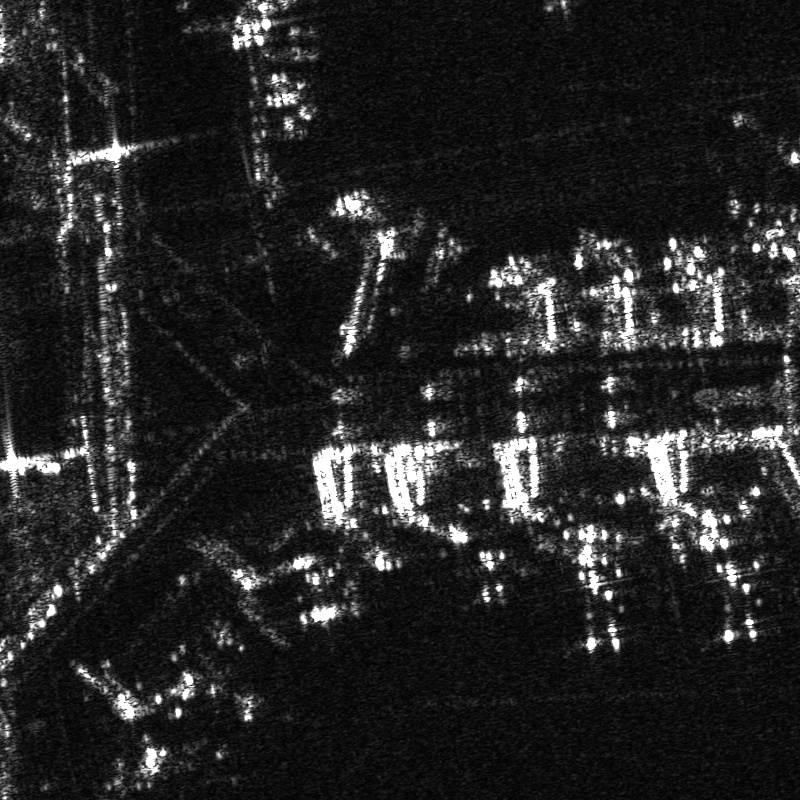A220: (450, 541, 531, 610)
A320/321: (187, 663, 269, 728)
Boeing787: (538, 537, 648, 660)
other: (689, 526, 789, 645)
